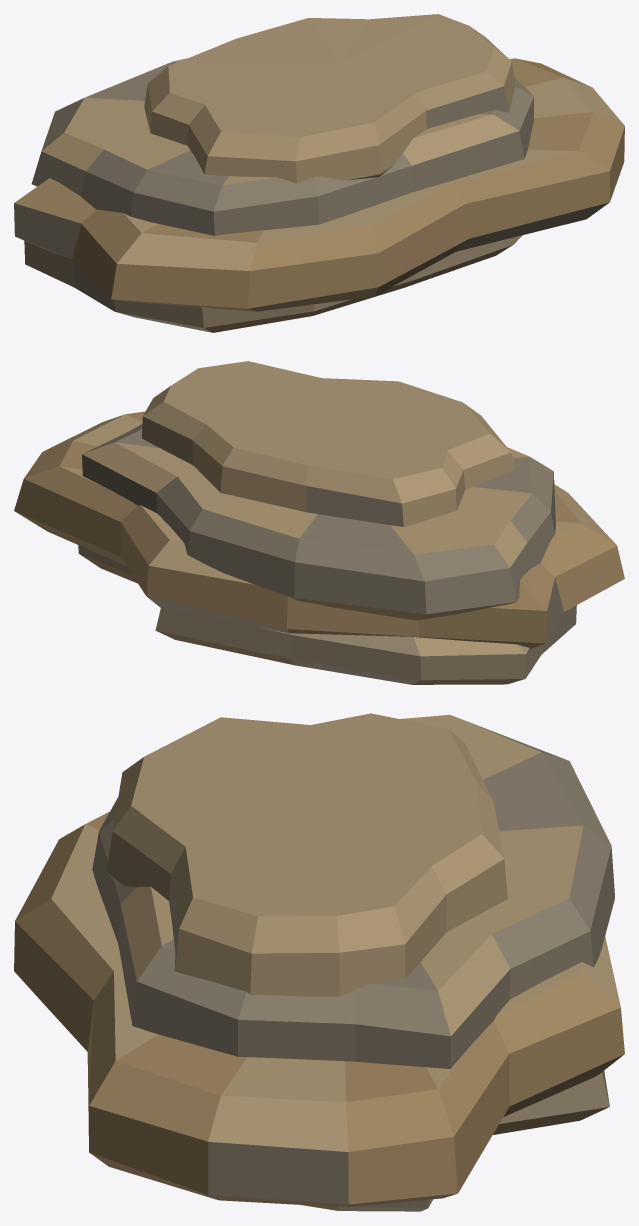
The picture shows the model from 3 angles, top to bottom: view 1: azimuth 30°, elevation 25°; view 2: azimuth 150°, elevation 25°; view 3: azimuth 270°, elevation 25°; orthographic projection. The views are drawn at different scales.
Visible parts, largest first — view 1: r02; view 2: r02; view 3: r02.
Boxes of the visible parts, x1=… form: r02: x1=14, y1=14, x2=624, y2=332; r02: x1=14, y1=361, x2=624, y2=684; r02: x1=14, y1=713, x2=624, y2=1211.
Size of the model in its own units: 1.12 by 0.36 by 0.72.
